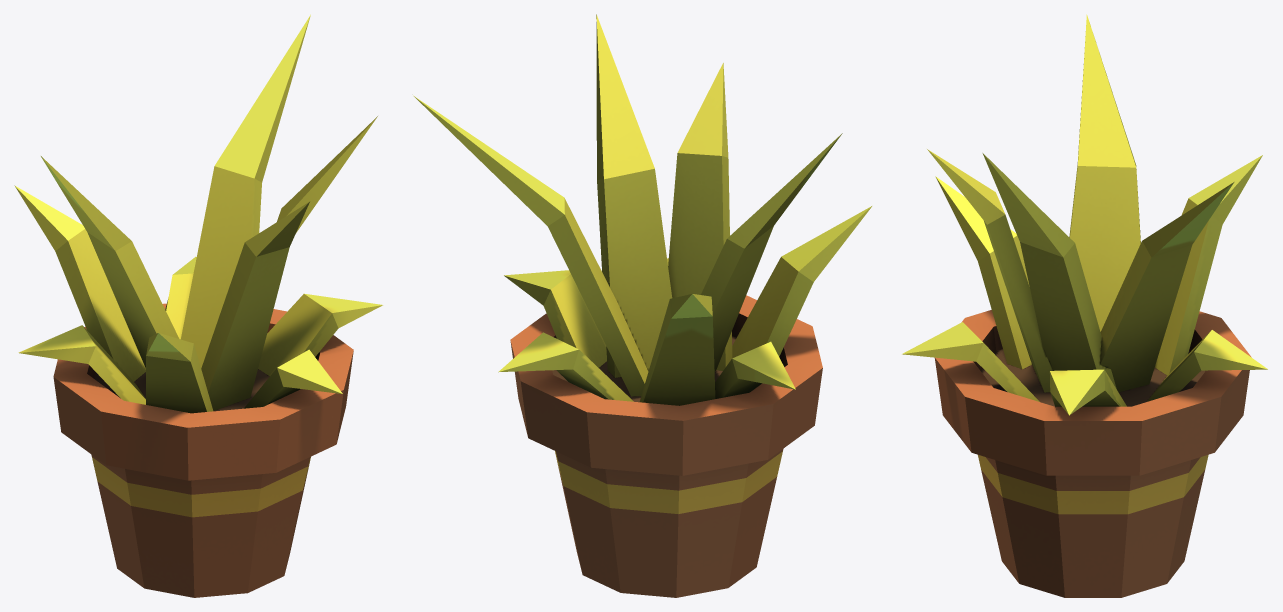
Rendered from PUSHILIN_plant.obj.
The picture shows the model from 3 angles, left to right: view 1: azimuth 30°, elevation 25°; view 2: azimuth 150°, elevation 25°; view 3: azimuth 270°, elevation 25°; orthographic projection. The views are drawn at different scales.
Parts seen in each view (by area): view 1: plant; view 2: plant; view 3: plant.
Part boxes in pixels (x1,y1,x2,y2): plant: (14,14,382,597); plant: (413,14,871,597); plant: (902,14,1267,597).
Size of the model in its own units: 1.35 by 1.71 by 1.21.
1 material, 1 textured.
